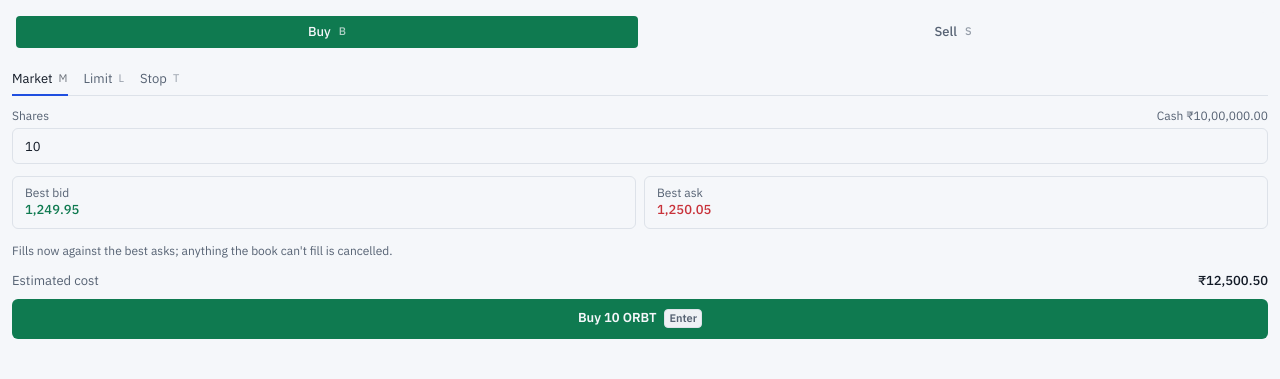
Test: OrderTicket › clears the last order's outcome when the quantity changes
Click the button "Buy 10 ORBT Enter" at (640, 319), box [12,299,1268,339]
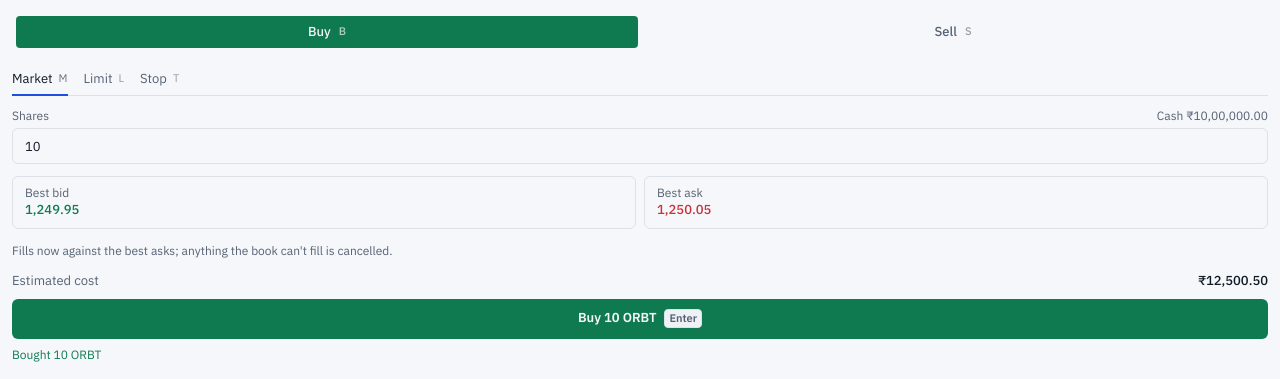
Expected: the text "Bought 10 ORBT" is shown, [12,347,101,362]
Type "0" into the field labelled "Shares Cash ₹10,00,000.00" at (640, 146), box [12,128,1268,164]
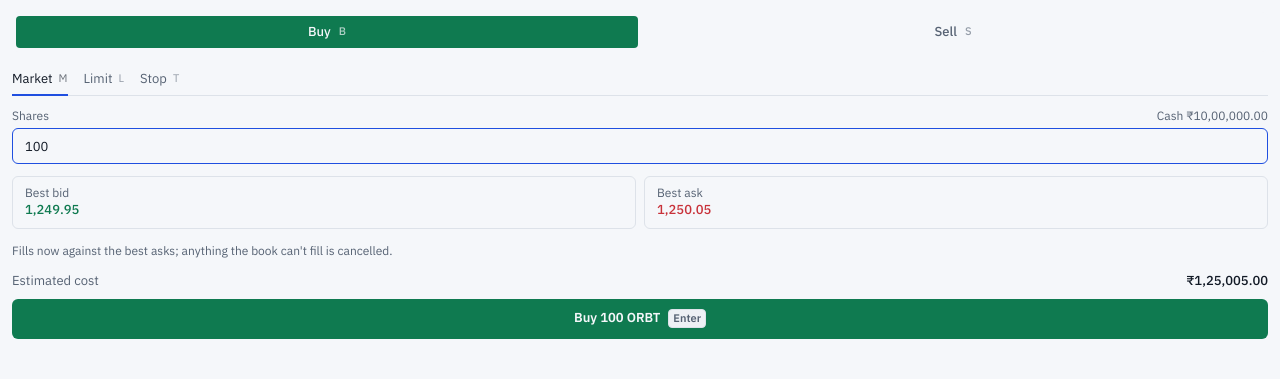
Expected: the text "Bought 10 ORBT" is gone
